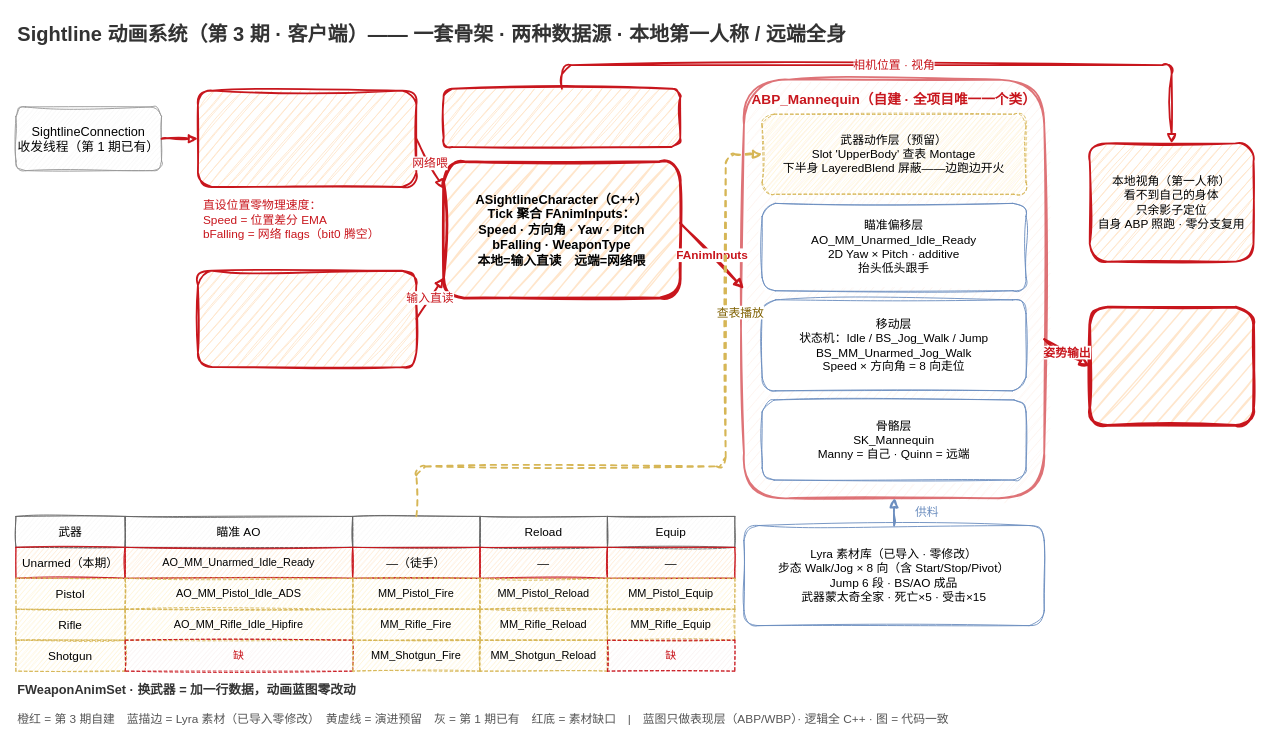
The diagram is 1270 pixels wide and 744 high, and some of its shapes have lost their labels. The centre of each missing label's shape, as x and y in pixels:
Fire: point 416,531
本地源 · Enhanced Input IA_Move / IA_Look / IA_Jump WASD 相对视角方向移动: point 307,318
第一人称相机（挂头部） 鼠标 = Yaw / Pitch 控制旋转: point 561,117
网络源 · S2C ENTITY_STATE 33ms 位置直发（本期故意做错） 远端实体 ApplyState: point 307,138
远端视角（全身） 向左 = 向左动画（8 向） 抬头低头 = AO 跟随 卡顿 = 纯网络（本期主角）: point 1171,365
